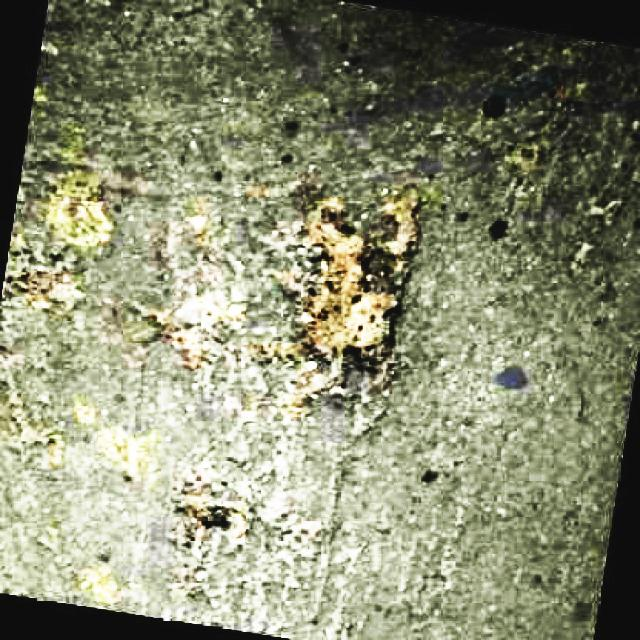pothole: (275, 192, 428, 382)
